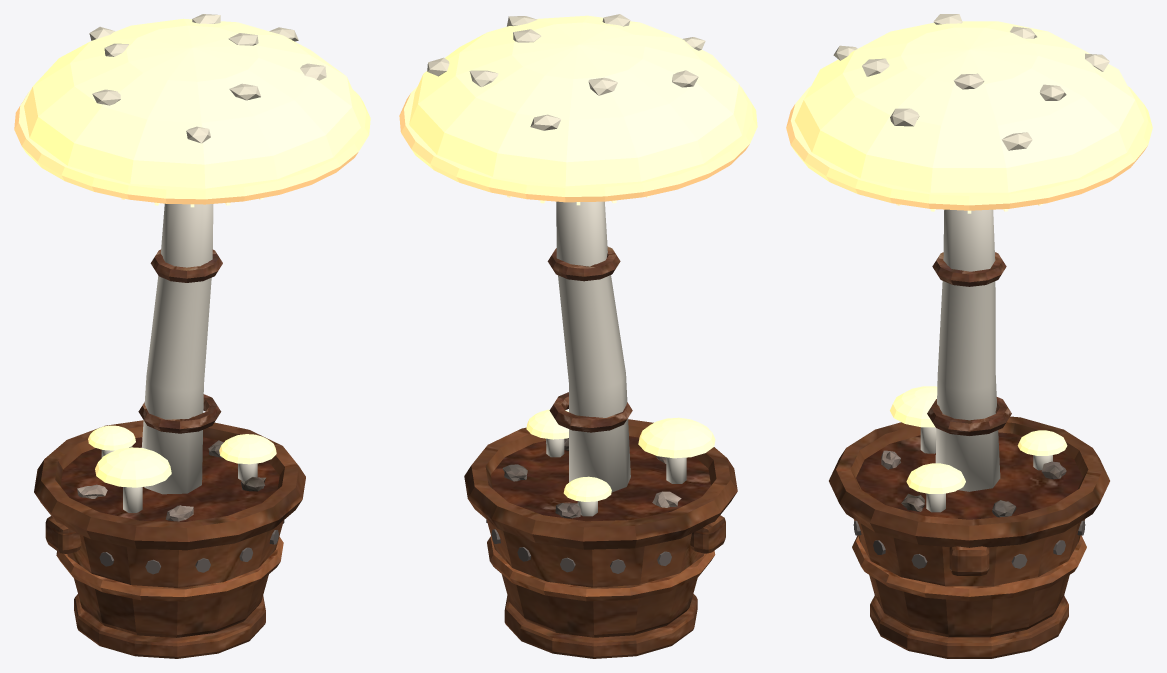
Rendered from mushroom_lamp.glb.
3 views of the same model, side by side, from view 1: azimuth 30°, elevation 25°; view 2: azimuth 150°, elevation 25°; view 3: azimuth 270°, elevation 25° (orthographic). The views are drawn at different scales.
Parts seen in each view (by area): view 1: model; view 2: model; view 3: model.
Part boxes in pixels (<box>): model: <box>14,14,370,658</box>; model: <box>399,14,757,658</box>; model: <box>786,14,1152,658</box>.
Size of the model in its own units: 0.552 by 0.965 by 0.552.
15 materials, 9 textured.
